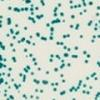Blue_green: (32, 79, 40, 85), (94, 92, 100, 100), (13, 6, 19, 13), (1, 44, 6, 52), (25, 39, 31, 45), (6, 73, 12, 79), (0, 77, 4, 86), (8, 94, 14, 100), (22, 74, 26, 83), (7, 17, 11, 25), (70, 54, 78, 58), (45, 22, 50, 28), (7, 66, 12, 72), (12, 59, 18, 64), (11, 48, 17, 53), (9, 42, 14, 48), (16, 39, 22, 44), (26, 64, 31, 70), (42, 80, 48, 85), (54, 67, 59, 73), (82, 49, 87, 55), (86, 53, 91, 59), (90, 72, 96, 77), (41, 36, 47, 41), (36, 14, 41, 20), (25, 0, 32, 4), (21, 36, 25, 43), (45, 70, 50, 75), (60, 73, 65, 78), (50, 54, 55, 59), (60, 64, 65, 69), (39, 13, 44, 18), (19, 6, 23, 12), (28, 7, 34, 11), (0, 61, 3, 69), (3, 56, 7, 62), (36, 66, 42, 70), (4, 80, 8, 86), (13, 82, 17, 88), (30, 94, 34, 100), (62, 90, 66, 96), (79, 79, 82, 87), (86, 75, 90, 81), (94, 76, 98, 82), (36, 32, 40, 38), (8, 6, 12, 11), (24, 7, 28, 12), (0, 19, 4, 24), (2, 63, 6, 68), (11, 55, 15, 60), (6, 33, 10, 38), (24, 26, 28, 31), (15, 31, 19, 36), (10, 29, 14, 34), (29, 72, 34, 76), (3, 89, 8, 93), (17, 83, 21, 88), (21, 94, 26, 98), (34, 88, 38, 93), (39, 89, 43, 94), (54, 82, 59, 86), (67, 62, 71, 67), (49, 58, 53, 63), (63, 53, 68, 57), (83, 59, 87, 64), (88, 86, 93, 90), (35, 96, 40, 100), (48, 36, 53, 40), (50, 27, 55, 31), (66, 33, 70, 38), (74, 45, 78, 50), (64, 44, 68, 49), (56, 41, 60, 46), (60, 41, 64, 46), (71, 15, 75, 20), (86, 90, 89, 96), (97, 60, 100, 66), (40, 0, 44, 4), (30, 11, 34, 15), (0, 40, 2, 48), (0, 53, 2, 61), (29, 34, 33, 38), (29, 53, 33, 57), (32, 57, 36, 61), (33, 62, 37, 66), (24, 68, 28, 72), (8, 86, 12, 90), (1, 72, 5, 76), (3, 94, 7, 98), (15, 86, 19, 90), (18, 73, 22, 77), (53, 88, 57, 92), (50, 82, 54, 86), (55, 54, 59, 58), (57, 56, 61, 60), (84, 84, 88, 88), (51, 96, 55, 100), (69, 89, 73, 93), (71, 85, 75, 89), (28, 16, 32, 20), (30, 17, 34, 21), (32, 20, 36, 24), (79, 34, 83, 38), (70, 25, 74, 29), (75, 23, 79, 27), (91, 39, 95, 43), (92, 34, 96, 38), (0, 14, 3, 19), (15, 23, 18, 28), (5, 97, 10, 100), (61, 58, 64, 63), (71, 97, 76, 100), (77, 85, 80, 90), (68, 47, 71, 52), (97, 33, 100, 38), (42, 3, 45, 7), (35, 7, 39, 10), (0, 24, 3, 28), (24, 48, 27, 52), (12, 36, 16, 39), (11, 78, 14, 82), (24, 96, 28, 99), (82, 90, 85, 94), (74, 88, 77, 92), (62, 20, 65, 24), (63, 34, 66, 38), (75, 27, 79, 30), (87, 22, 90, 26), (0, 73, 2, 78), (60, 91, 62, 96), (89, 20, 92, 23), (0, 0, 4, 2), (30, 4, 34, 6), (33, 42, 35, 46), (61, 80, 65, 82), (80, 12, 82, 15)
white: (92, 26, 98, 32), (55, 17, 60, 23), (95, 5, 100, 11), (70, 5, 75, 10), (60, 11, 64, 17), (58, 2, 62, 8), (83, 2, 87, 8), (52, 9, 57, 13), (54, 6, 58, 11), (50, 20, 55, 24), (95, 12, 99, 17), (93, 22, 98, 26), (74, 4, 78, 9), (78, 3, 82, 8), (83, 9, 87, 13), (89, 2, 93, 6), (70, 0, 74, 4), (81, 0, 85, 4), (53, 14, 57, 17)
